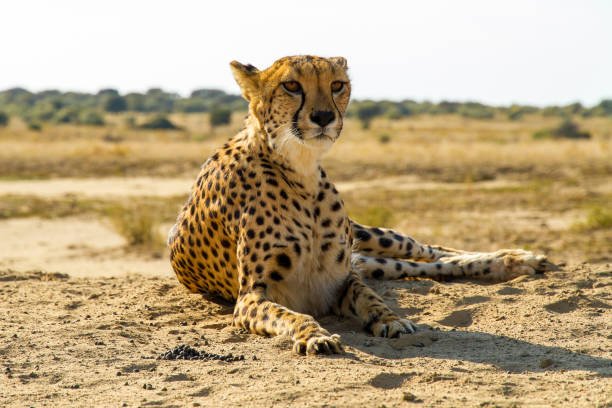cheetah: (221, 51, 368, 179)
